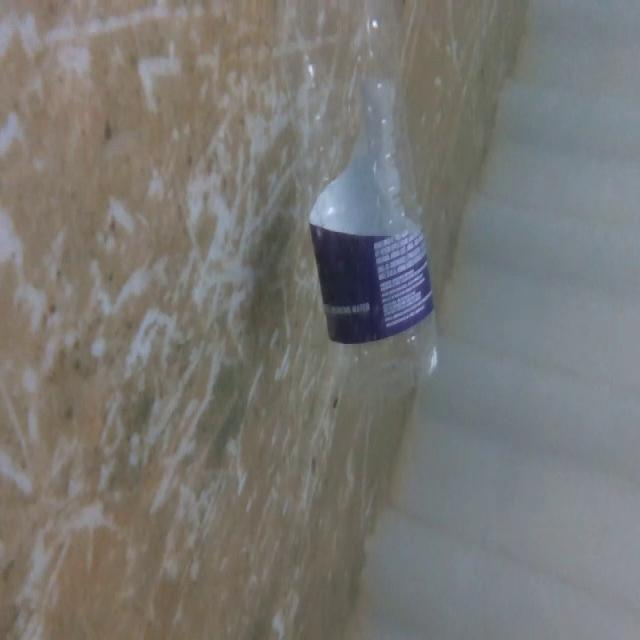plastic bottle: (272, 2, 450, 401)
